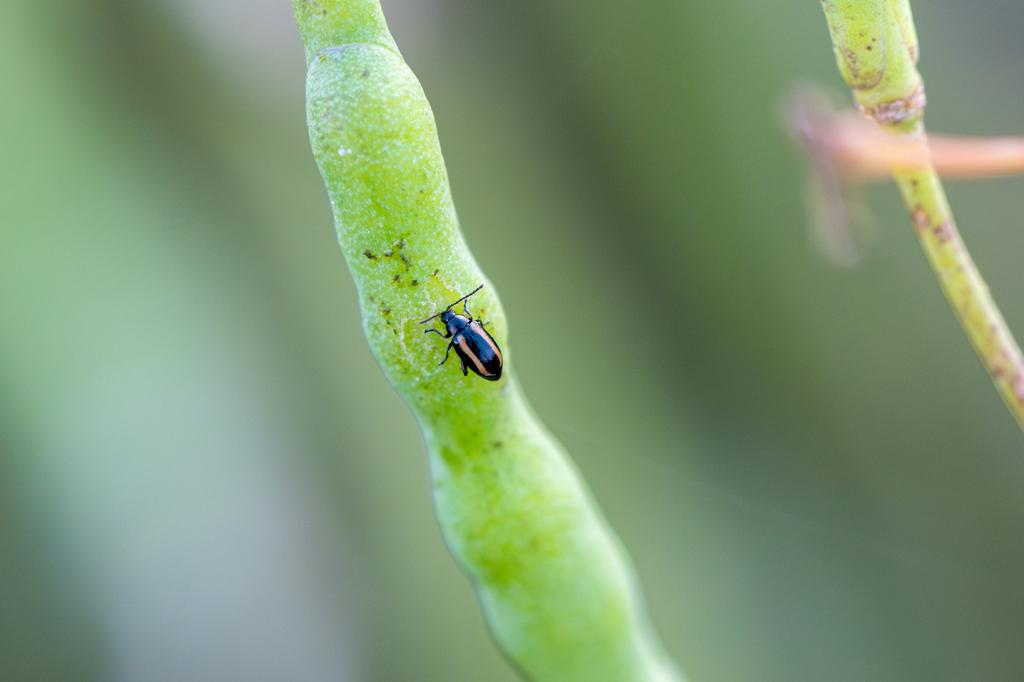flea_beetle: (392, 271, 540, 402)
